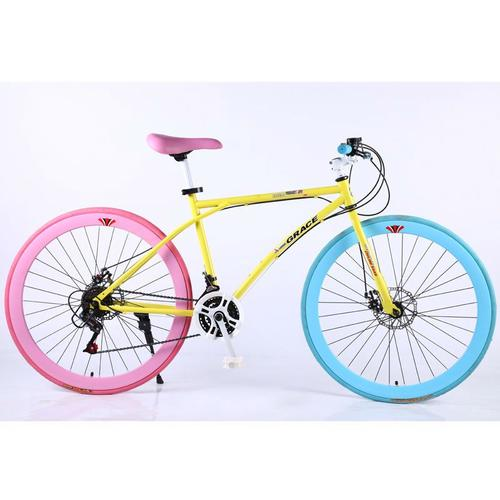单车: (2, 100, 497, 411)
